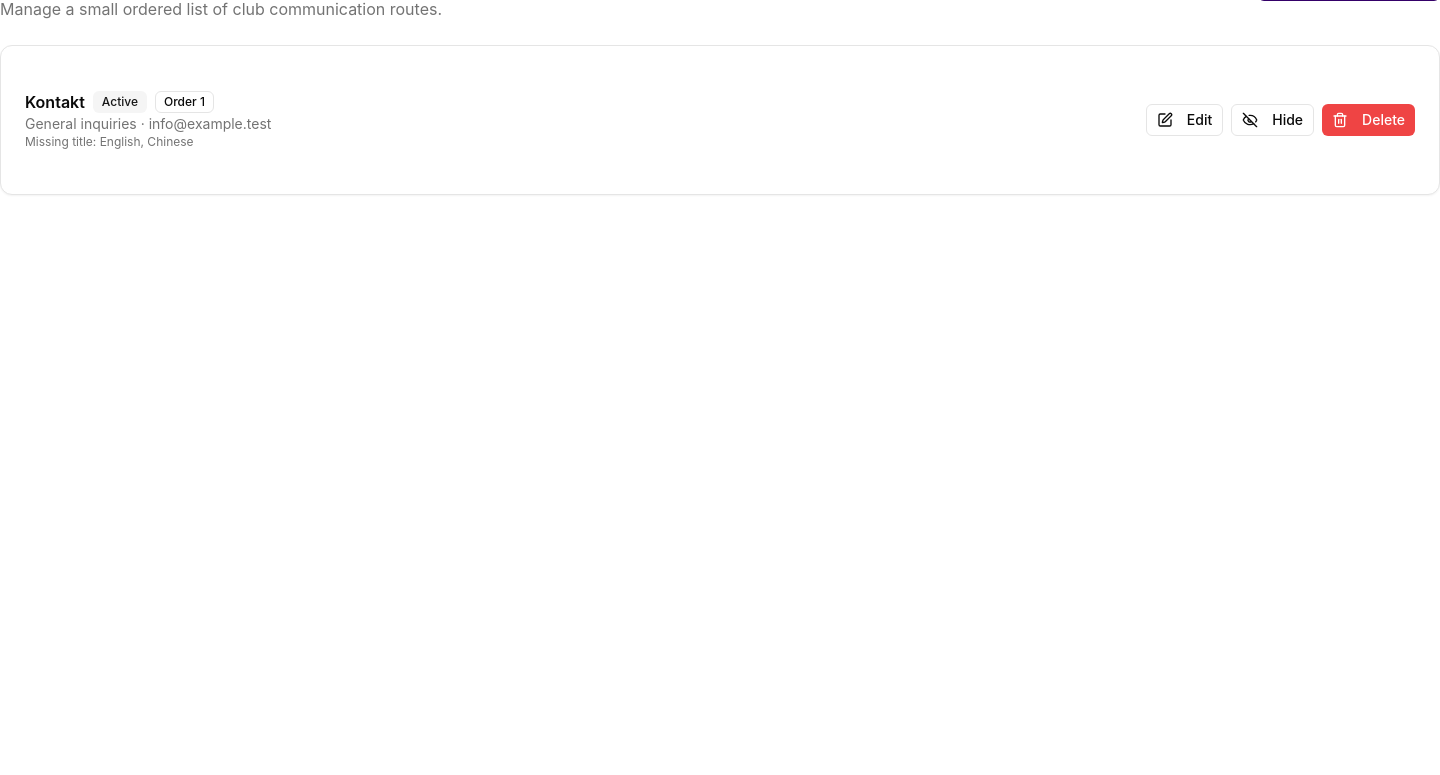
Test: ContactEntryManager › shows the retained original QR filename when reopening the editor
Step 1. Click the button with aria-label "Edit Contact entry Kontakt" → (1184, 120), box [1146, 104, 1223, 136]
(page scrolled)
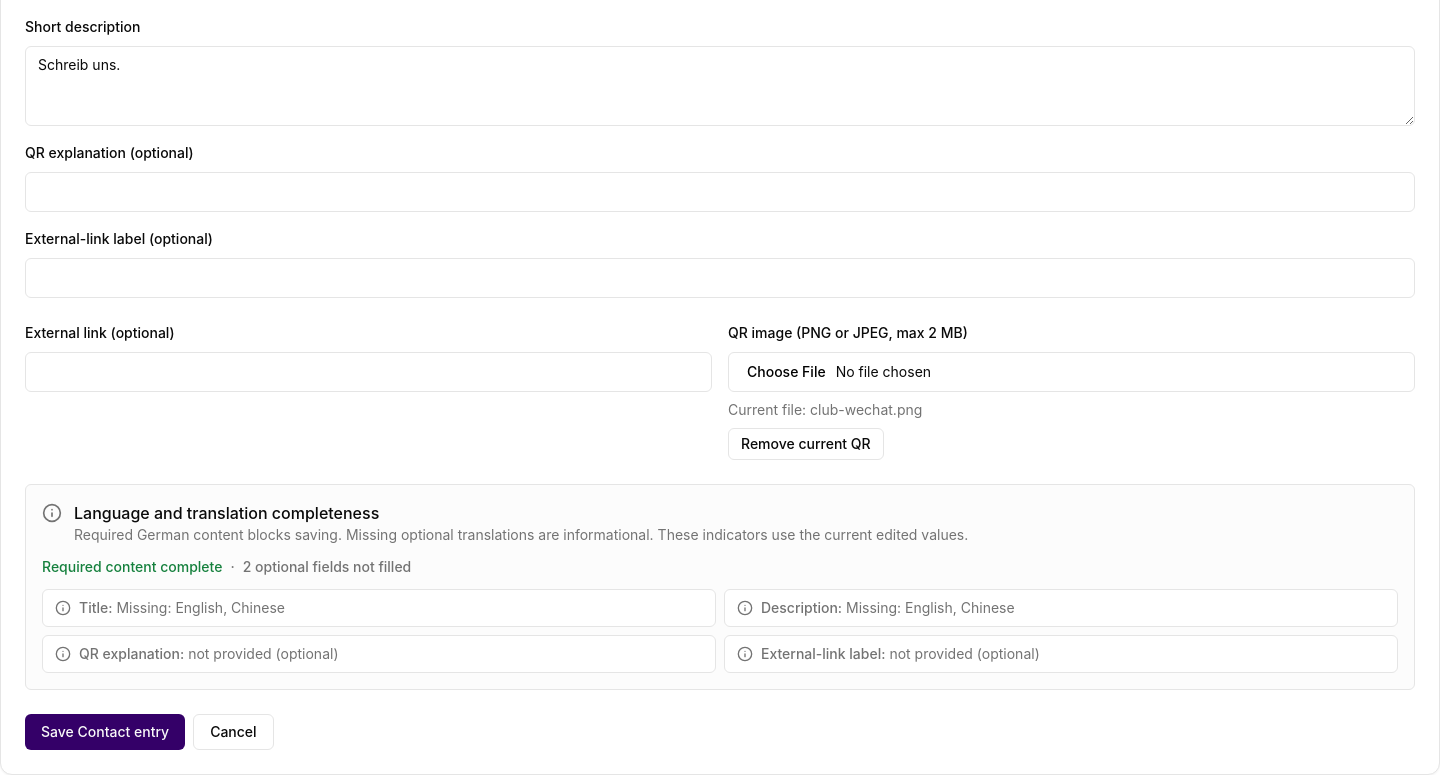
expect the text "Current file: club-wechat.png" is shown: met, box [728, 401, 922, 418]
expect the button "Remove current QR" is shown: met, box [728, 428, 884, 460]
